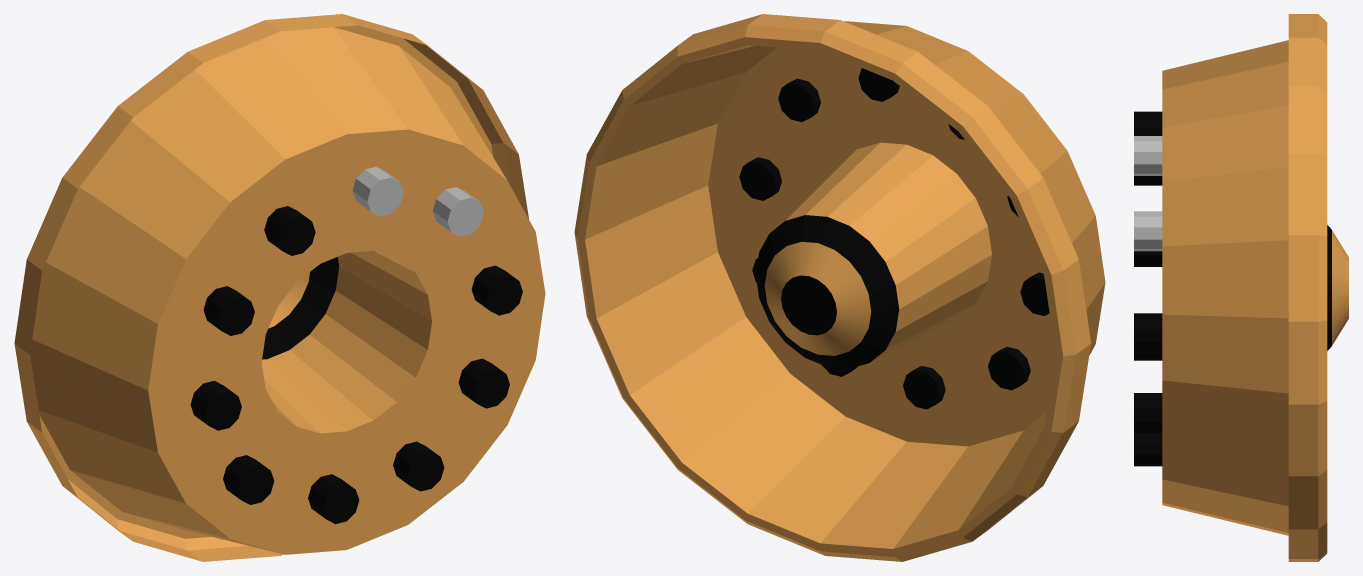
File: Ring2_rear.fbx
3 renders of one model, left to right at view 1: azimuth 30°, elevation 25°; view 2: azimuth 150°, elevation 25°; view 3: azimuth 270°, elevation 25°, orthographic. The views are drawn at different scales.
Visible parts, largest first — view 1: polySurface9; view 2: polySurface9; view 3: polySurface9.
Boxes of the visible parts, x1,y1,x2,y2 form: polySurface9: (14, 14, 545, 561); polySurface9: (574, 14, 1105, 561); polySurface9: (1134, 14, 1348, 561).
Bounding box in the file's own units: 0.0291 × 0.0291 × 0.0113.
